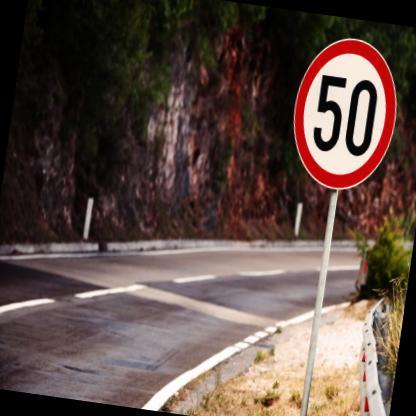road_sign: (294, 38, 396, 189)
